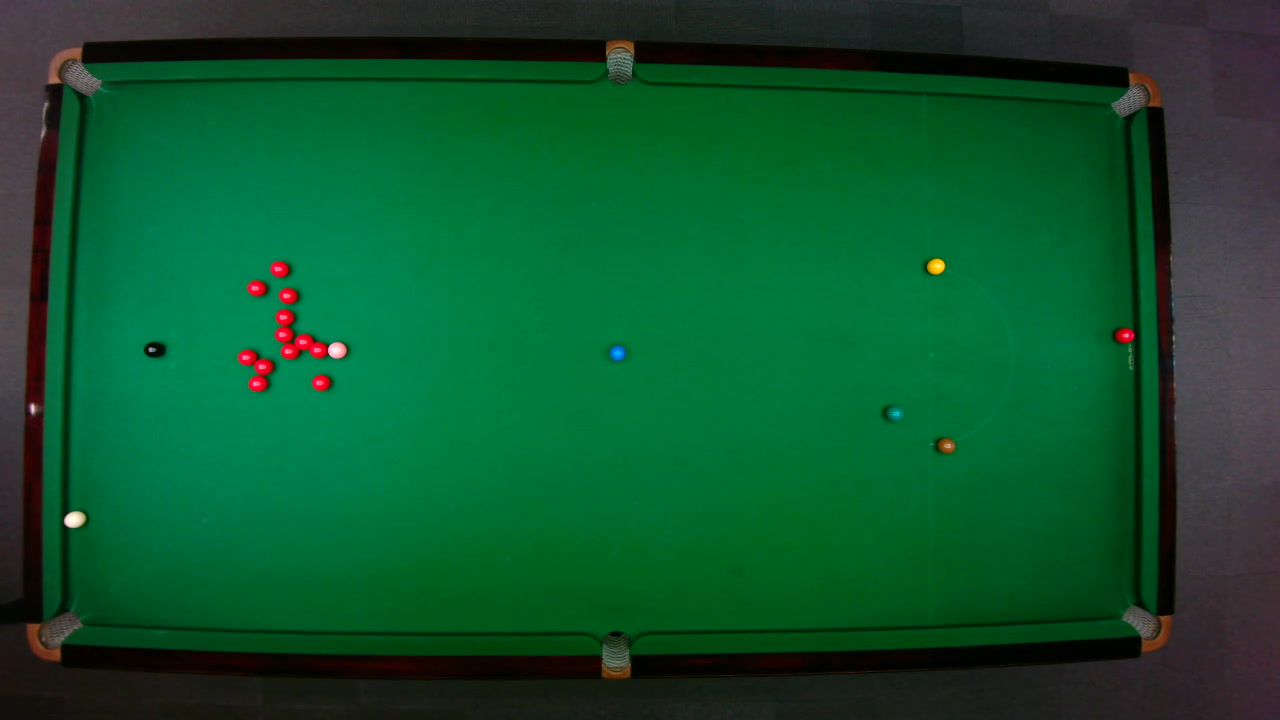bag: (24, 609, 84, 661), (45, 46, 101, 96), (1119, 603, 1171, 652), (1108, 71, 1162, 118), (600, 629, 630, 679), (605, 38, 633, 85)
black: (142, 340, 163, 358)
blue: (608, 343, 626, 361)
brown: (935, 436, 956, 453)
green: (883, 404, 904, 421)
pink: (326, 340, 348, 359)
red: (235, 347, 258, 366), (252, 356, 274, 375), (244, 278, 267, 296), (292, 332, 314, 350), (246, 374, 268, 392), (1112, 326, 1135, 343), (268, 259, 289, 277), (277, 286, 298, 304), (310, 373, 331, 391), (273, 307, 294, 325), (272, 325, 293, 342), (279, 342, 300, 359), (308, 340, 327, 358)
white: (62, 509, 87, 528)
yellow: (925, 256, 945, 274)
zone: (927, 261, 1013, 445)
